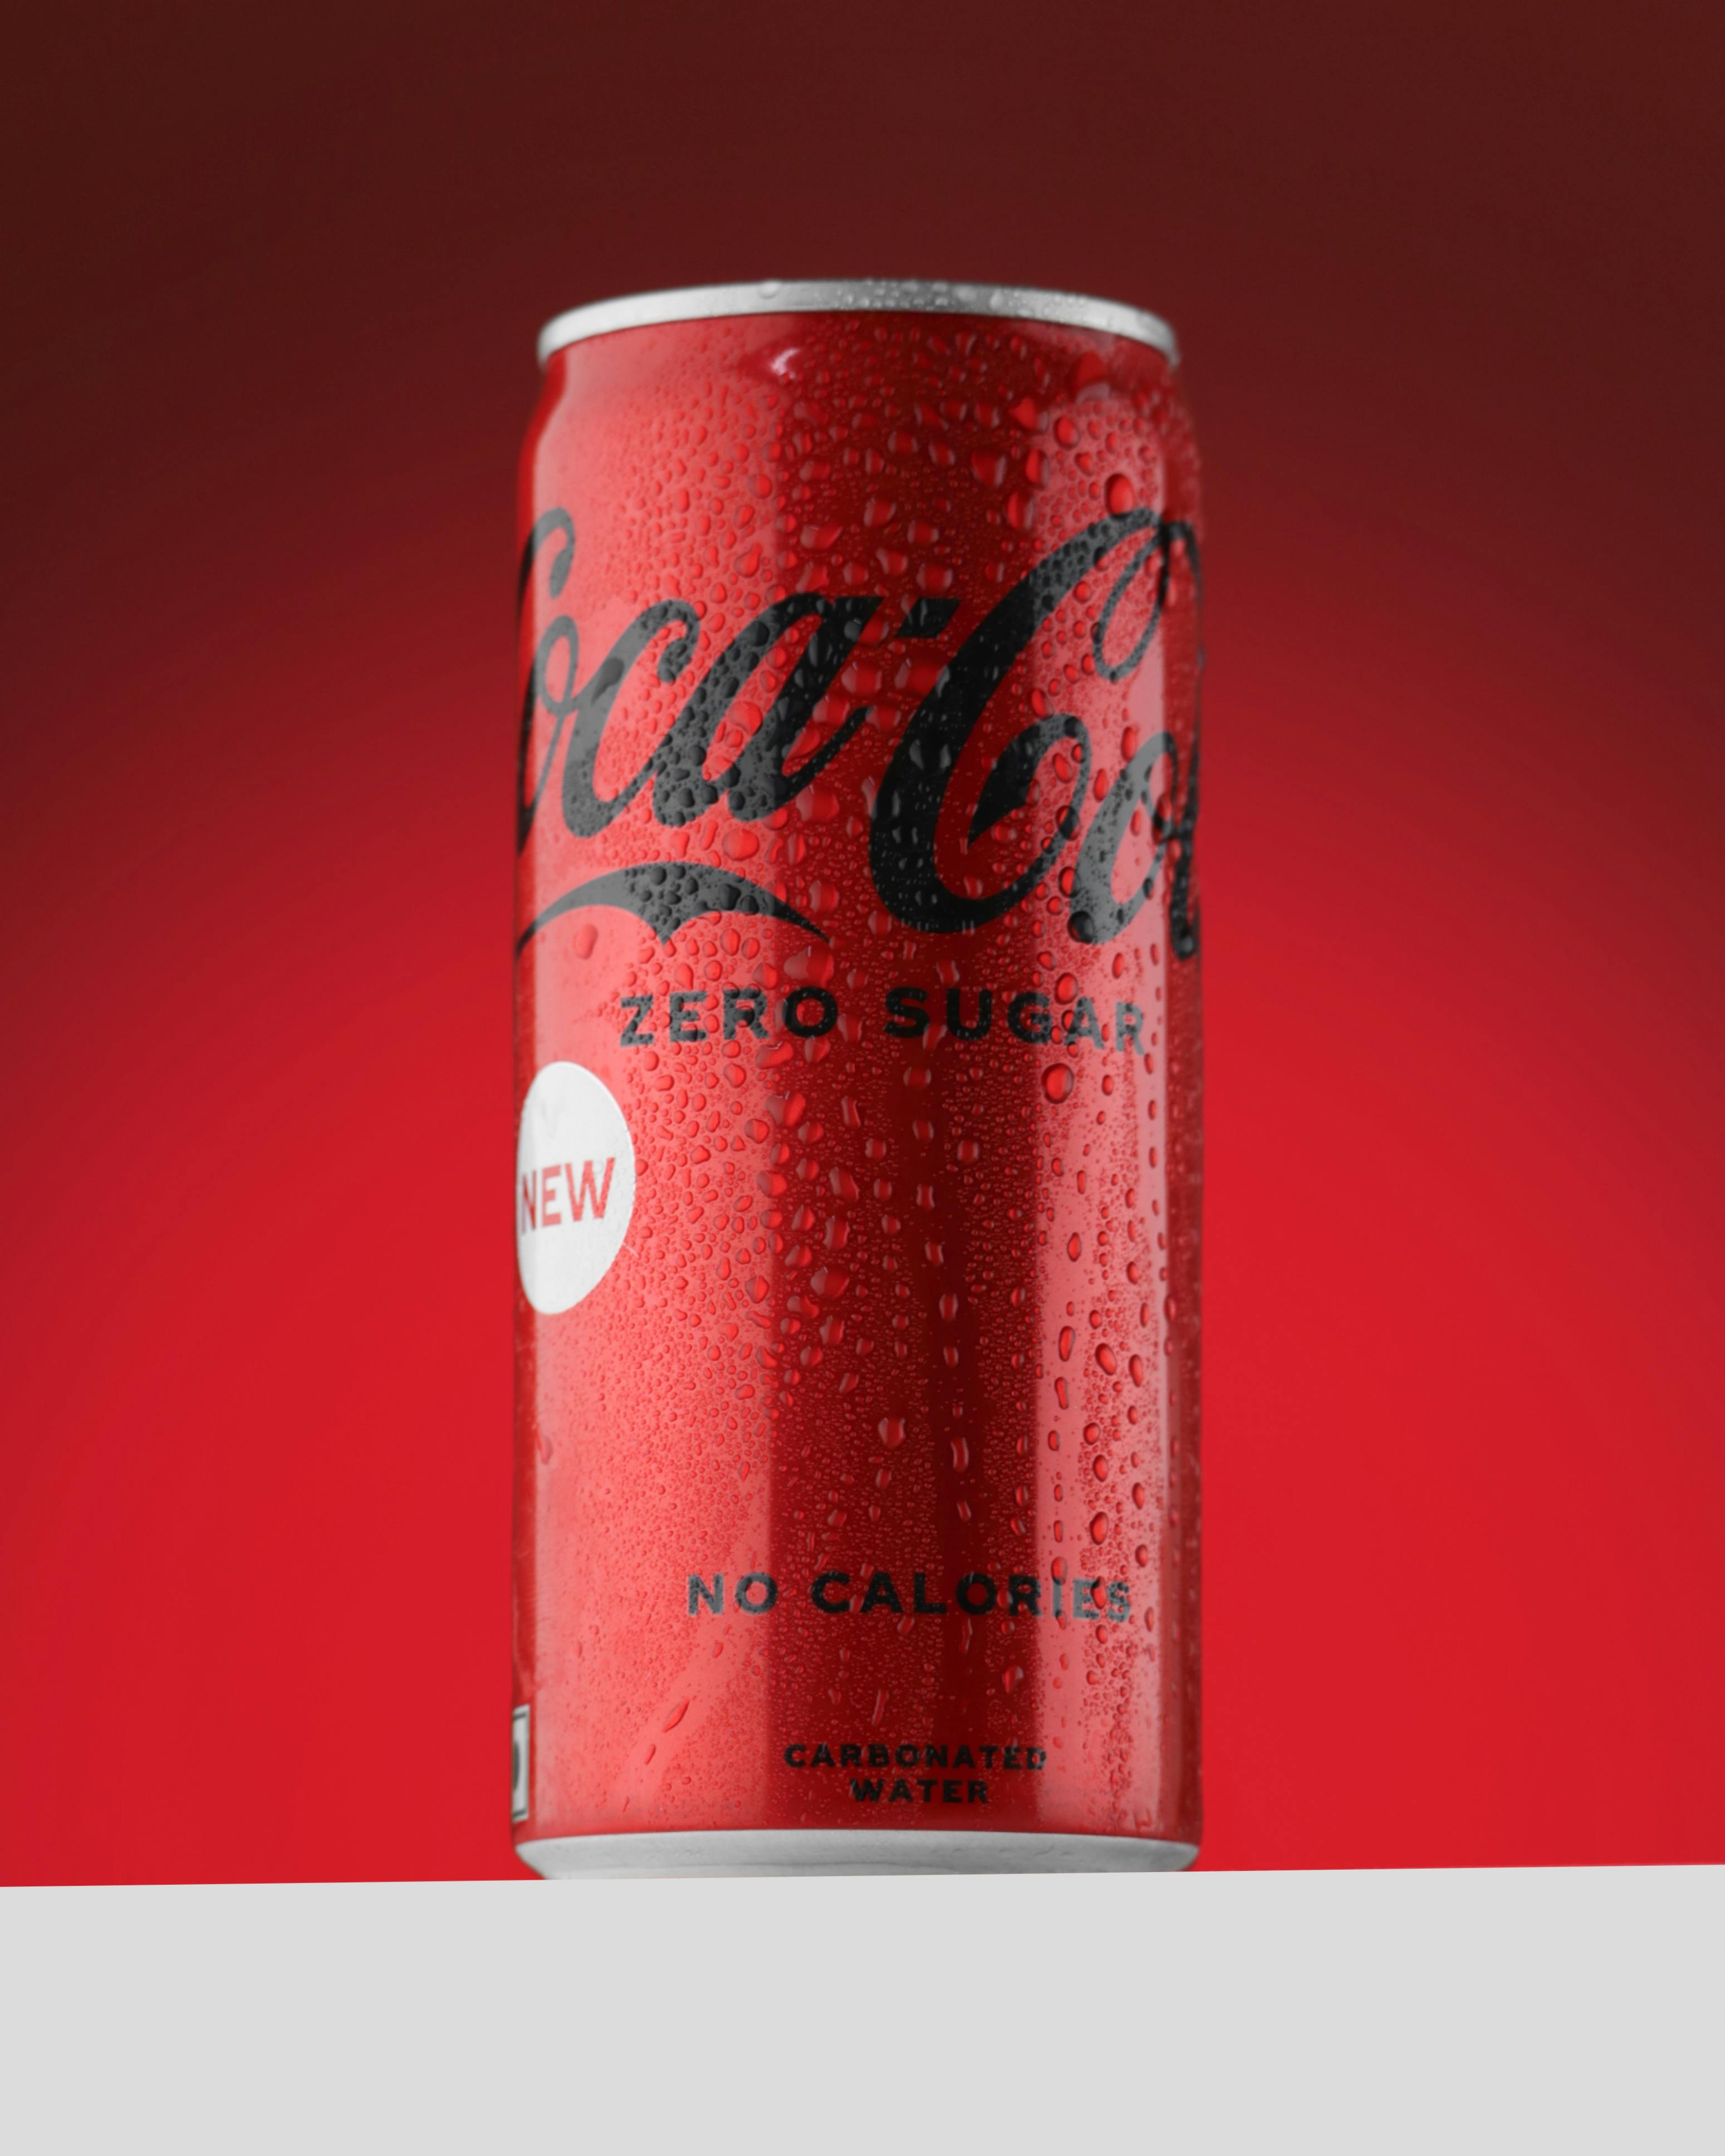COCOCOLA: (522, 293, 1185, 1854)
